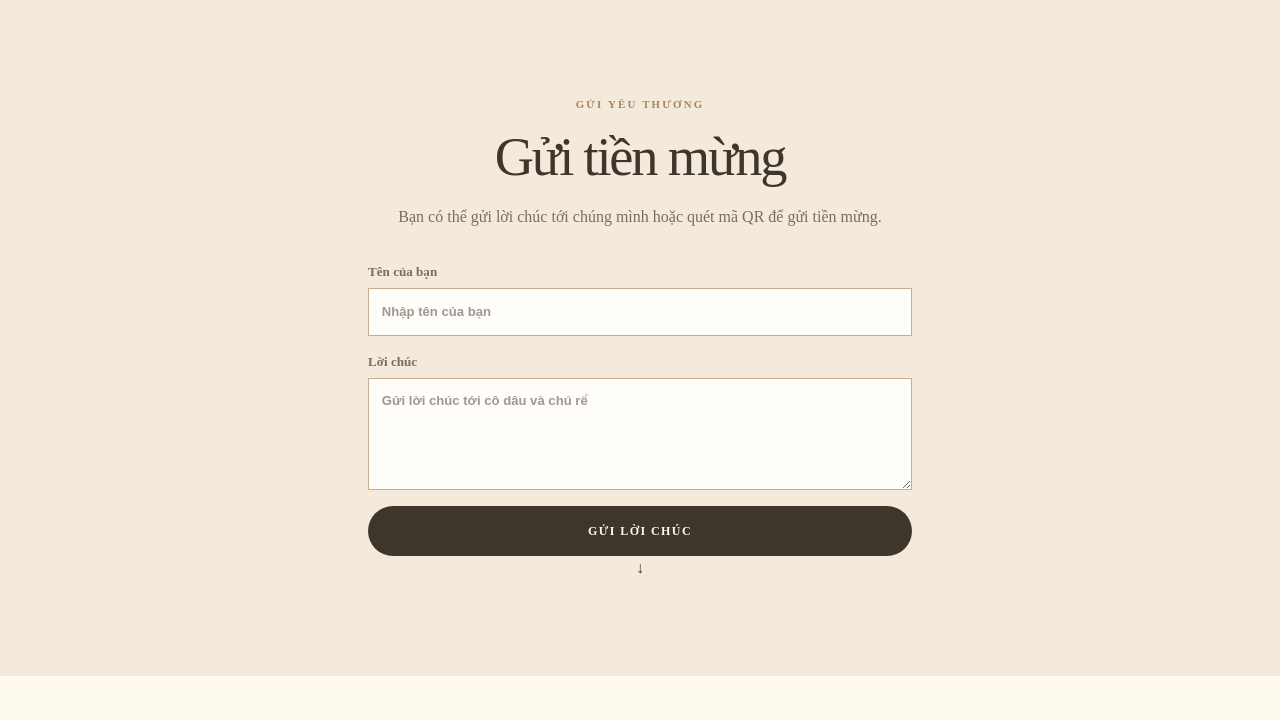
it: GiftSection › keeps entered values when submission fails
The image size is (1280, 720).
In the field labelled "Tên của bạn": (640, 312) top-left (368, 288), bottom-right (912, 336), type "Lan"
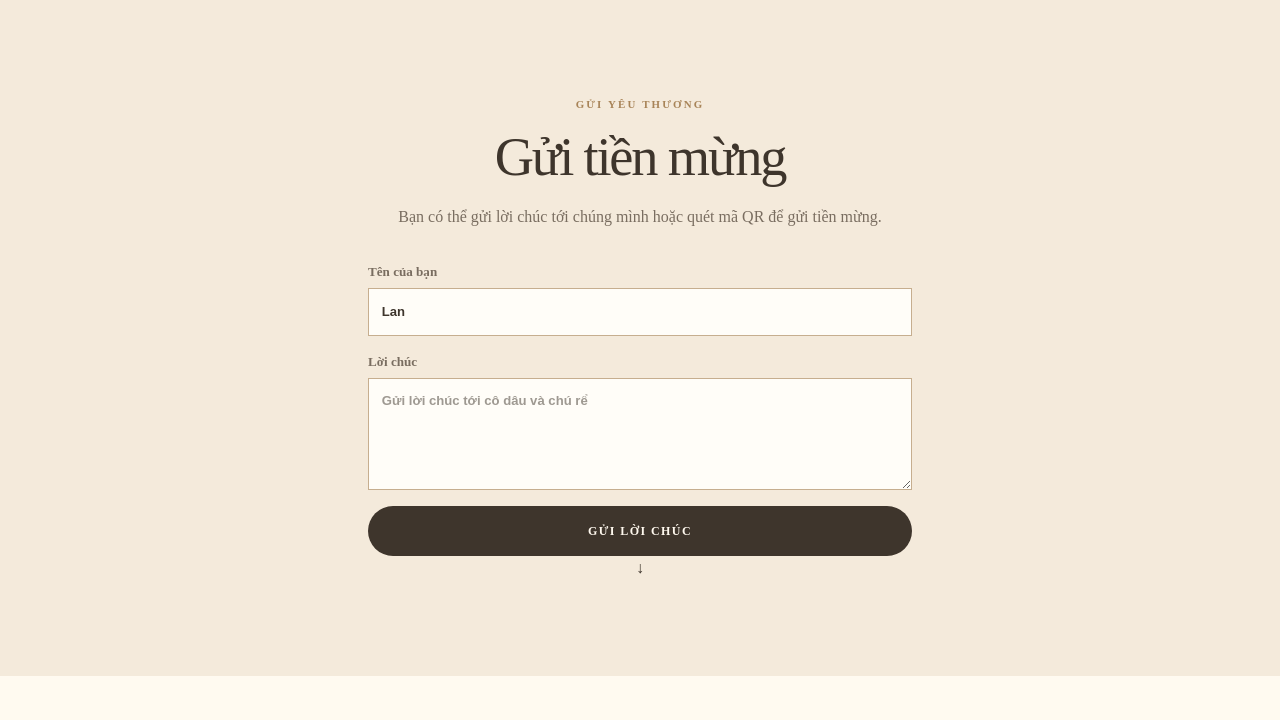
In the text box labelled "Lời chúc": (640, 434) top-left (368, 378), bottom-right (912, 490), type "Mong ngày vui trọn vẹn"
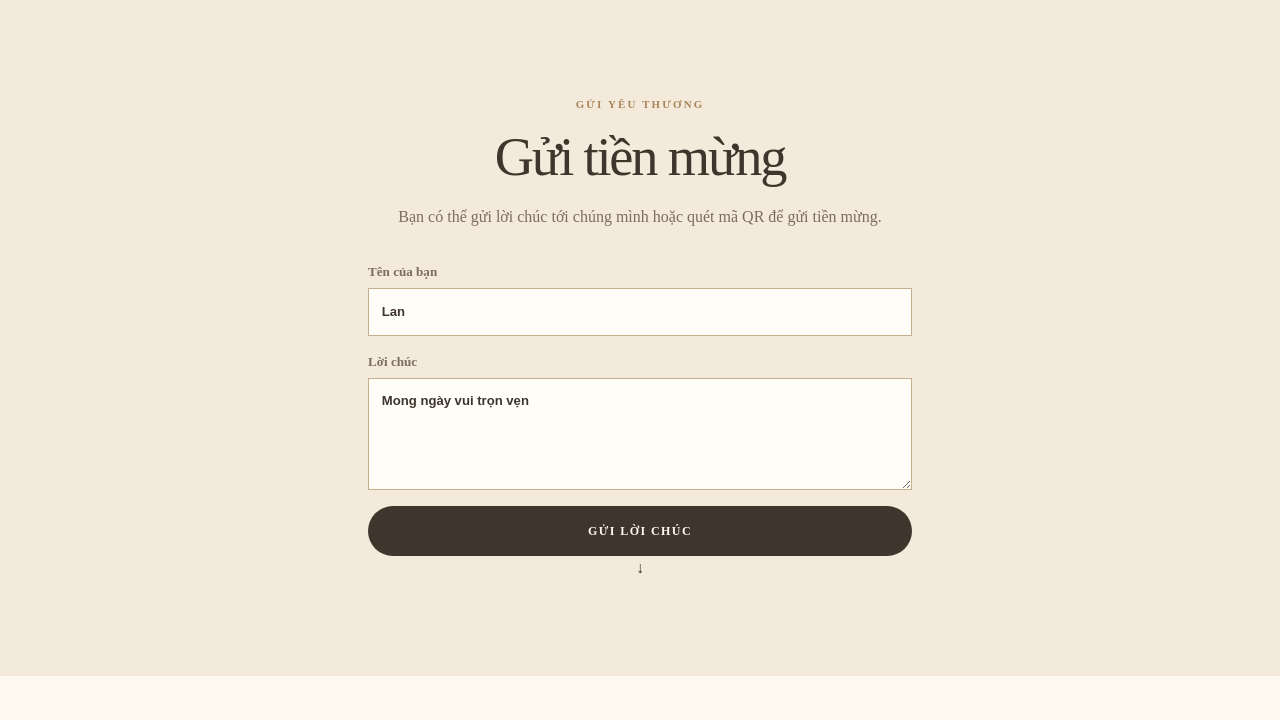
Click the button "Gửi lời chúc": (640, 531) top-left (368, 506), bottom-right (912, 556)
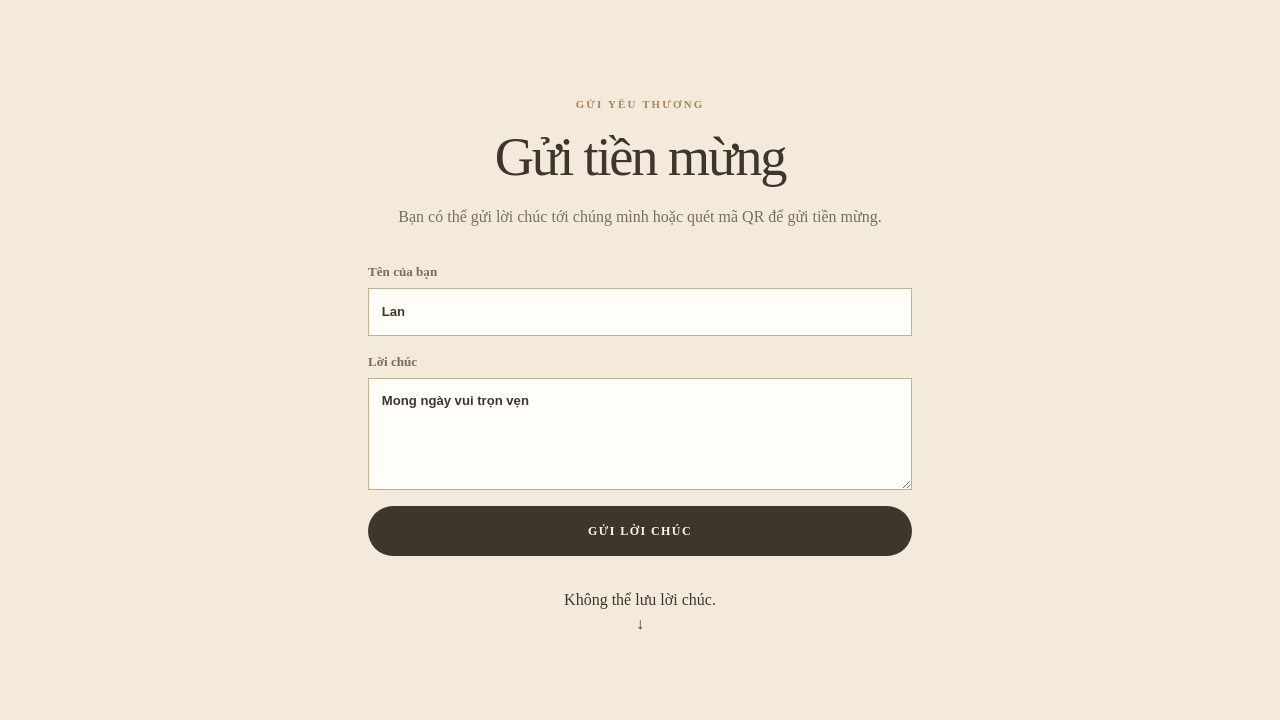
Expected: the text "Không thể lưu lời chúc." is shown, top-left (564, 591), bottom-right (716, 608)
